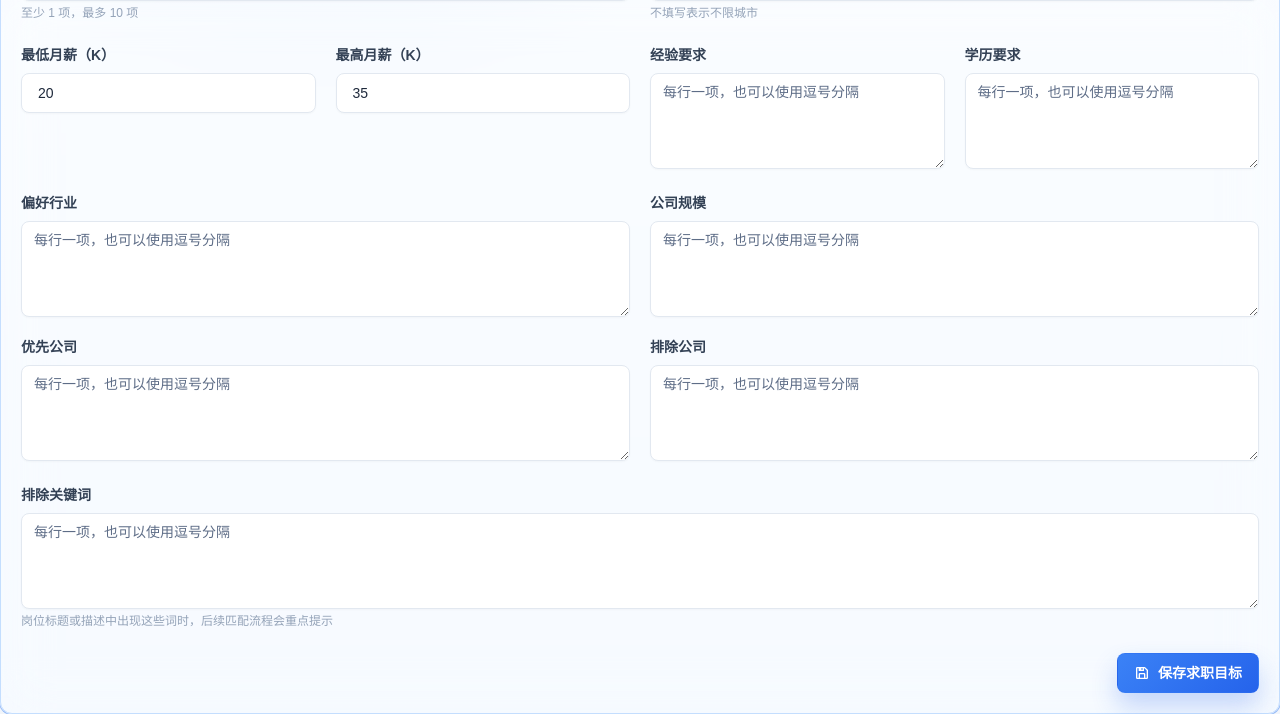
第四轮 Cloud 页面 › 求职目标版本冲突后加载服务端最新版并保留明确提示
This screenshot has width=1280, height=714.
(page scrolled)
What coordinates should you click on to do the following:
click the button "保存求职目标"
I would click on:
 (1188, 673)
Its box is x1=1117 y1=653 x2=1259 y2=693.
(page scrolled)
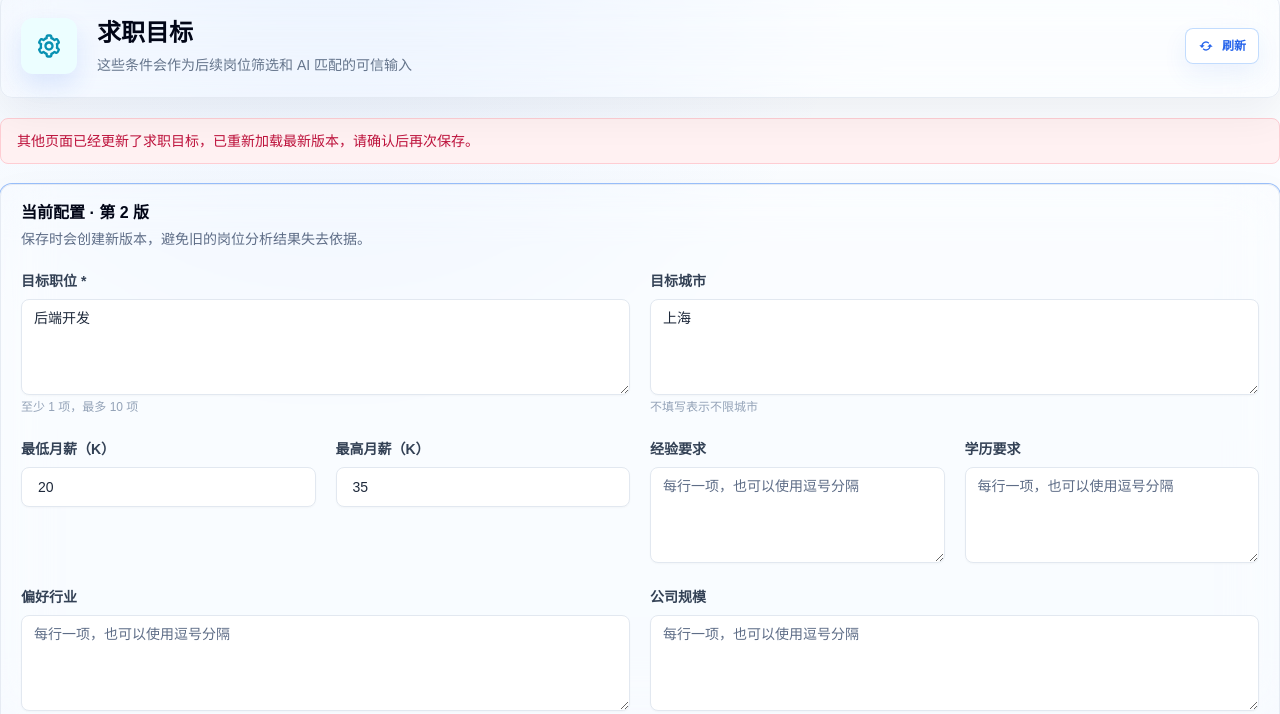
Now the message shows "已重新加载最新版本", box x1=17 y1=133 x2=479 y2=149
Now the text box showing "后端开发" is shown, box x1=21 y1=299 x2=630 y2=395
